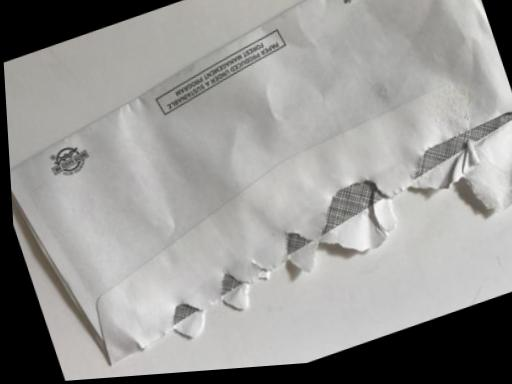paper: (4, 0, 511, 383)
